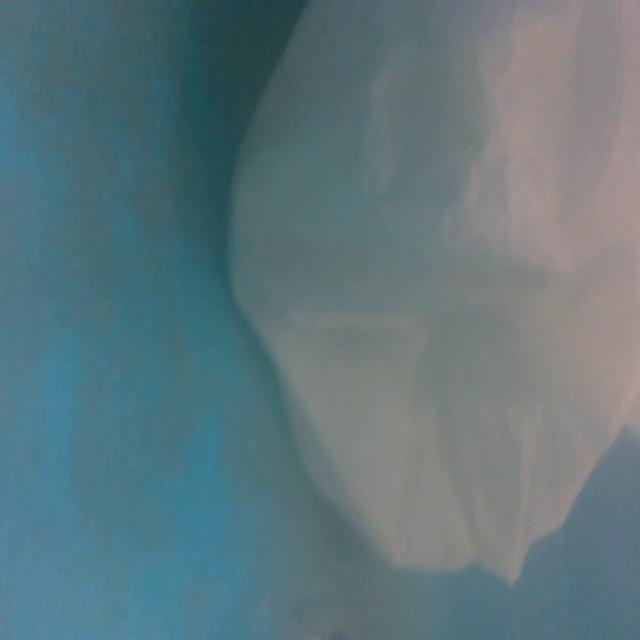plastic bags: (213, 0, 640, 587)
